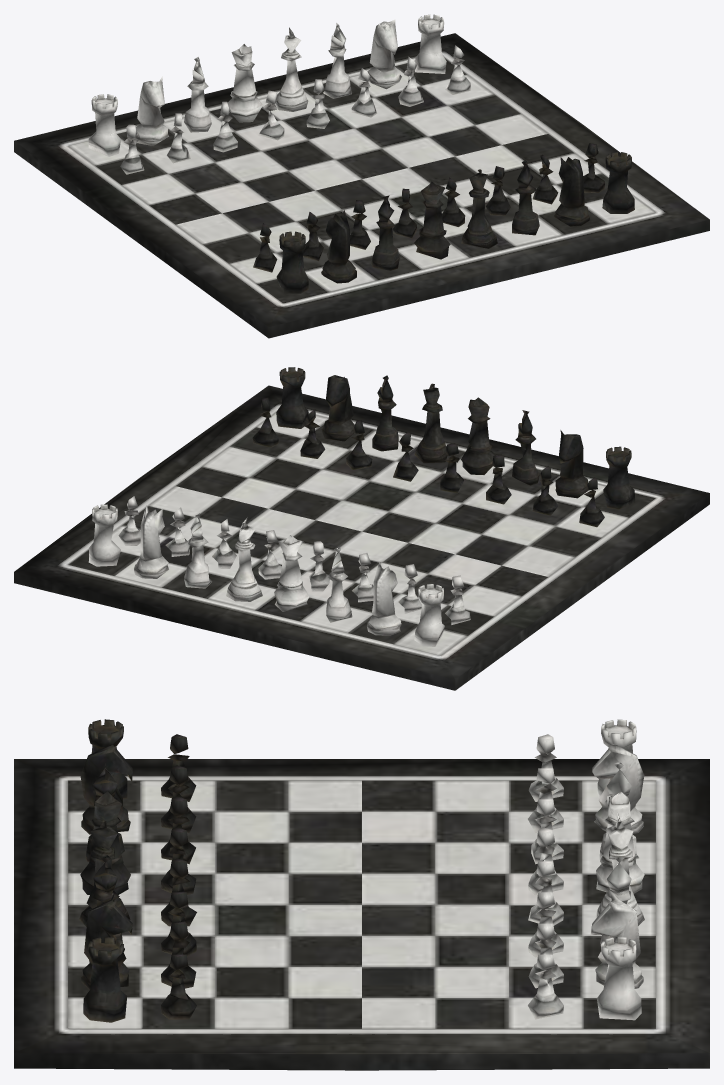
Rendered from board_game.glb.
The picture shows the model from 3 angles, top to bottom: view 1: azimuth 30°, elevation 25°; view 2: azimuth 150°, elevation 25°; view 3: azimuth 270°, elevation 25°; orthographic projection. The views are drawn at different scales.
Visible parts, largest first — view 1: board, piece_rook_black_01, piece_rook_white_01; view 2: board, piece_rook_black_01, piece_rook_white_01; view 3: board, piece_rook_black_01, piece_rook_white_01.
Part boxes in pixels (x1=…): board: x1=14, y1=33, x2=709, y2=338; piece_rook_black_01: x1=253, y1=143, x2=634, y2=293; piece_rook_white_01: x1=88, y1=14, x2=470, y2=174; board: x1=14, y1=385, x2=709, y2=690; piece_rook_black_01: x1=252, y1=367, x2=635, y2=527; piece_rook_white_01: x1=88, y1=496, x2=470, y2=646; board: x1=14, y1=759, x2=709, y2=1070; piece_rook_black_01: x1=79, y1=719, x2=196, y2=1022; piece_rook_white_01: x1=528, y1=719, x2=644, y2=1020.
Size of the model in its own units: 0.5507 by 0.1087 by 0.5482.
3 materials, 3 textured.
